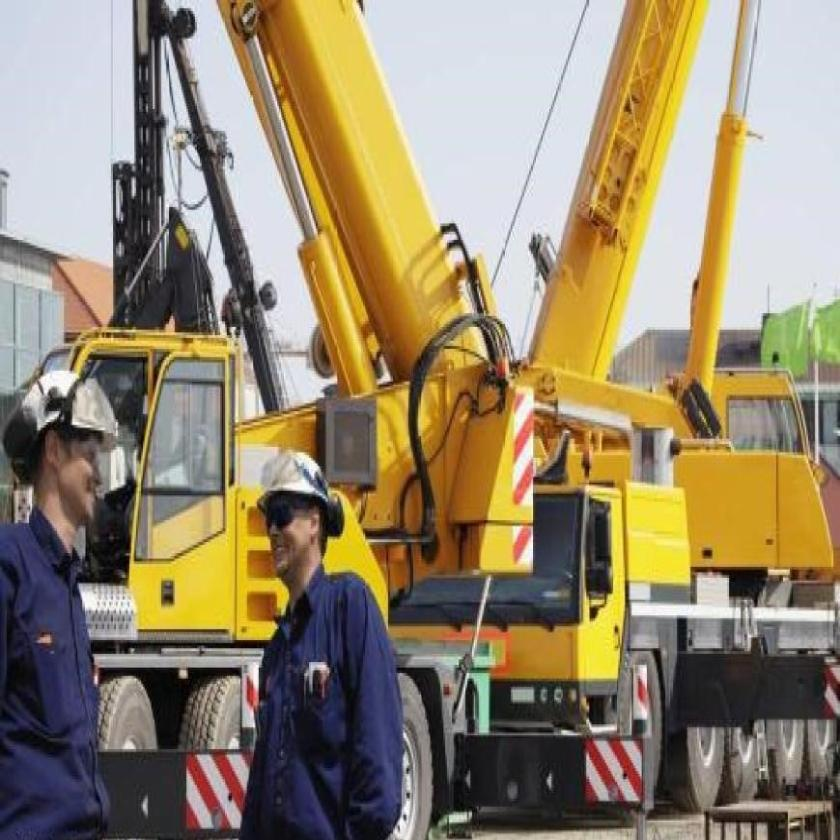Con_casco: (12, 352, 121, 559), (239, 437, 348, 595)
